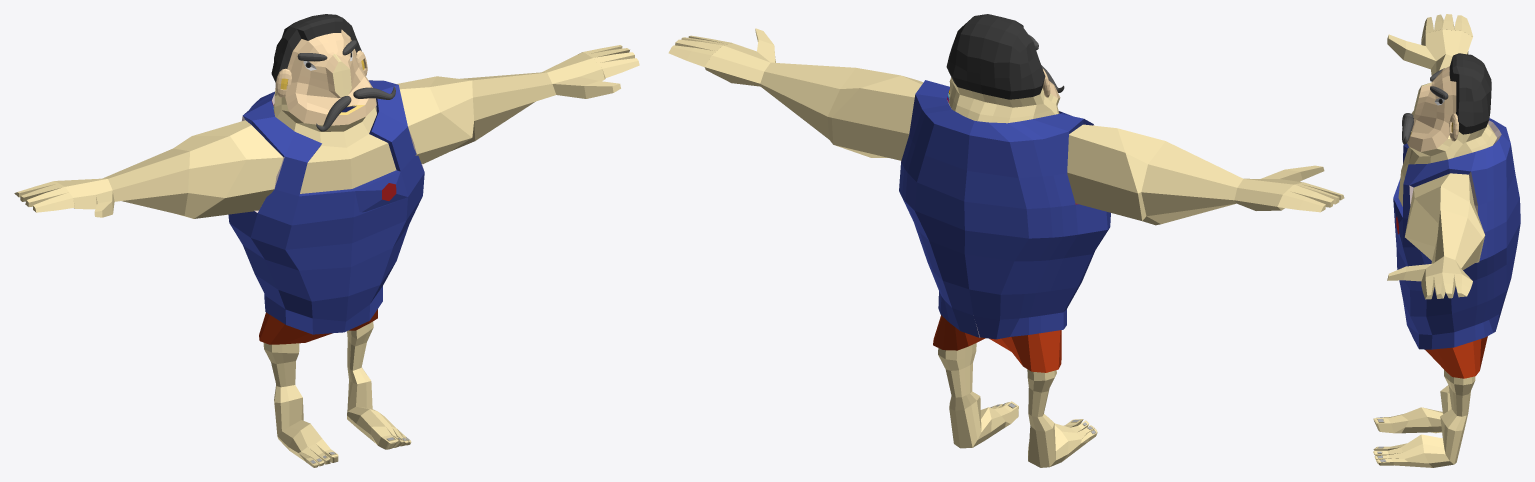
Rendered from guresci.fbx.
3 views of the same model, side by side, from view 1: azimuth 30°, elevation 25°; view 2: azimuth 150°, elevation 25°; view 3: azimuth 270°, elevation 25° (orthographic). The views are drawn at different scales.
Parts seen in each view (by area): view 1: Plane; view 2: Plane; view 3: Plane.
Boxes of the visible parts, x1,y1,x2,y2 form: Plane: (14, 14, 639, 467); Plane: (668, 14, 1344, 467); Plane: (1373, 14, 1520, 467).
Size of the model in its own units: 1799 by 1173 by 402.
